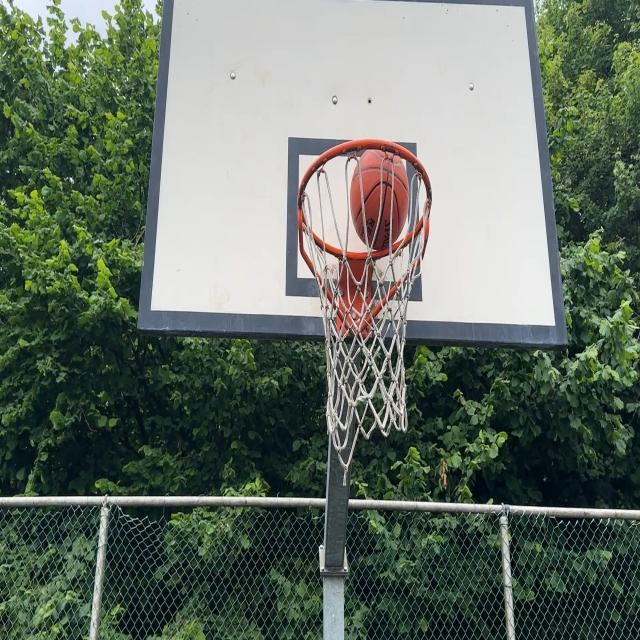rebound_hit: (346, 145, 414, 256)
